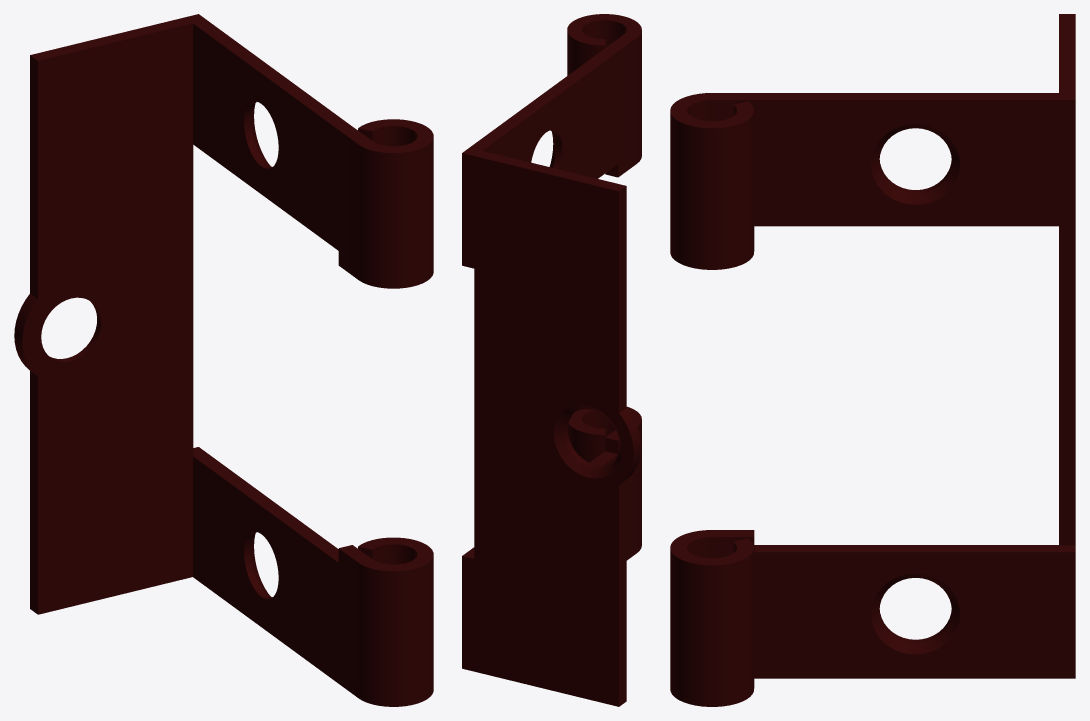
Rendered from original-43.obj.
The picture shows the model from 3 angles, left to right: view 1: azimuth 30°, elevation 25°; view 2: azimuth 150°, elevation 25°; view 3: azimuth 270°, elevation 25°; orthographic projection. The views are drawn at different scales.
Visible parts, largest first — view 1: Union4/mesh79/mesh79-geometry#mesh79-geometry; view 2: Union4/mesh79/mesh79-geometry#mesh79-geometry; view 3: Union4/mesh79/mesh79-geometry#mesh79-geometry.
Part boxes in pixels (x1=…): Union4/mesh79/mesh79-geometry#mesh79-geometry: x1=14, y1=14, x2=433, y2=706; Union4/mesh79/mesh79-geometry#mesh79-geometry: x1=462, y1=14, x2=641, y2=706; Union4/mesh79/mesh79-geometry#mesh79-geometry: x1=670, y1=14, x2=1075, y2=706.
Size of the model in its own units: 0.0226 by 0.0497 by 0.0316.
